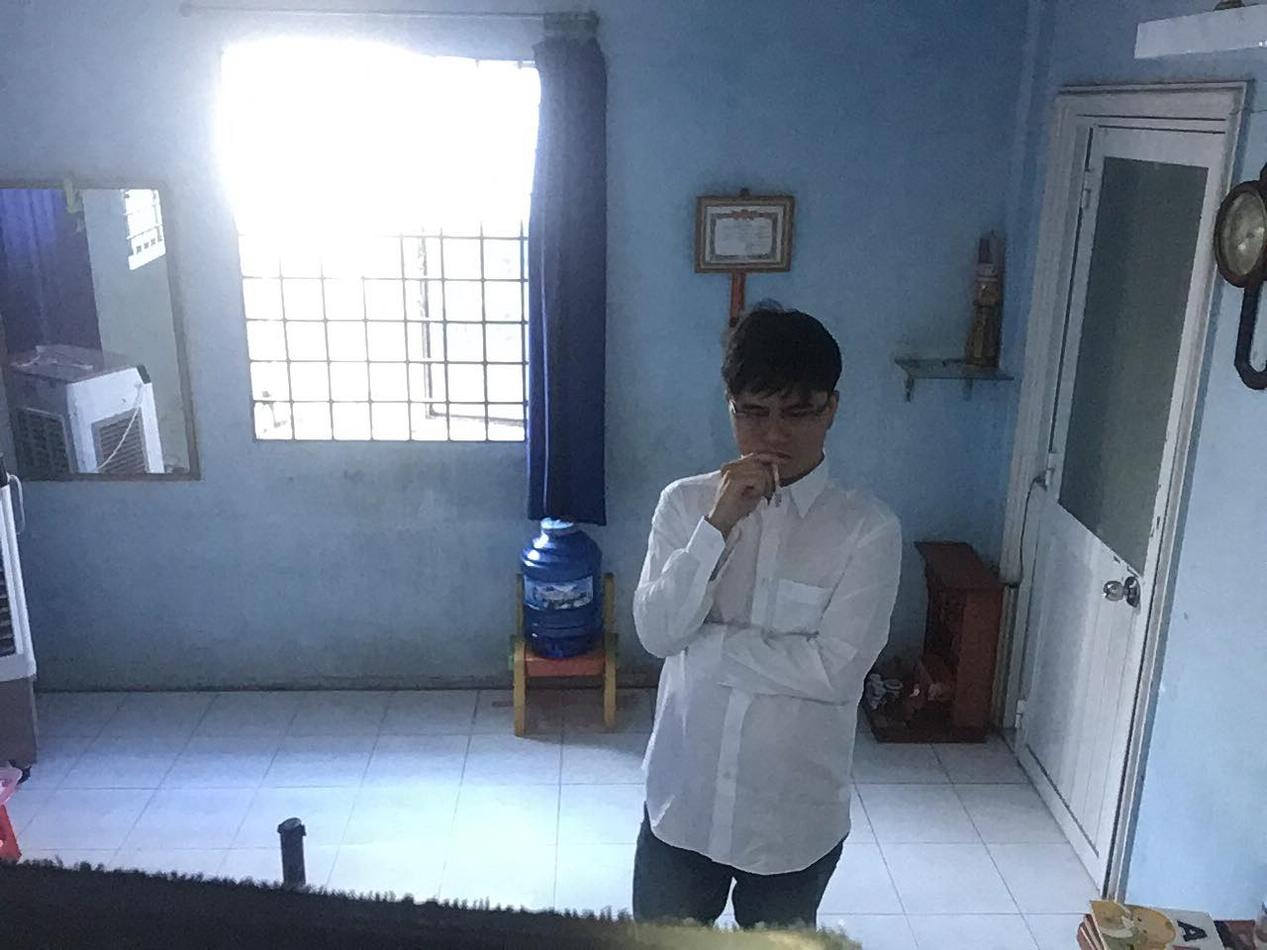cigarette: (768, 459, 790, 505)
person: (612, 289, 904, 950)
